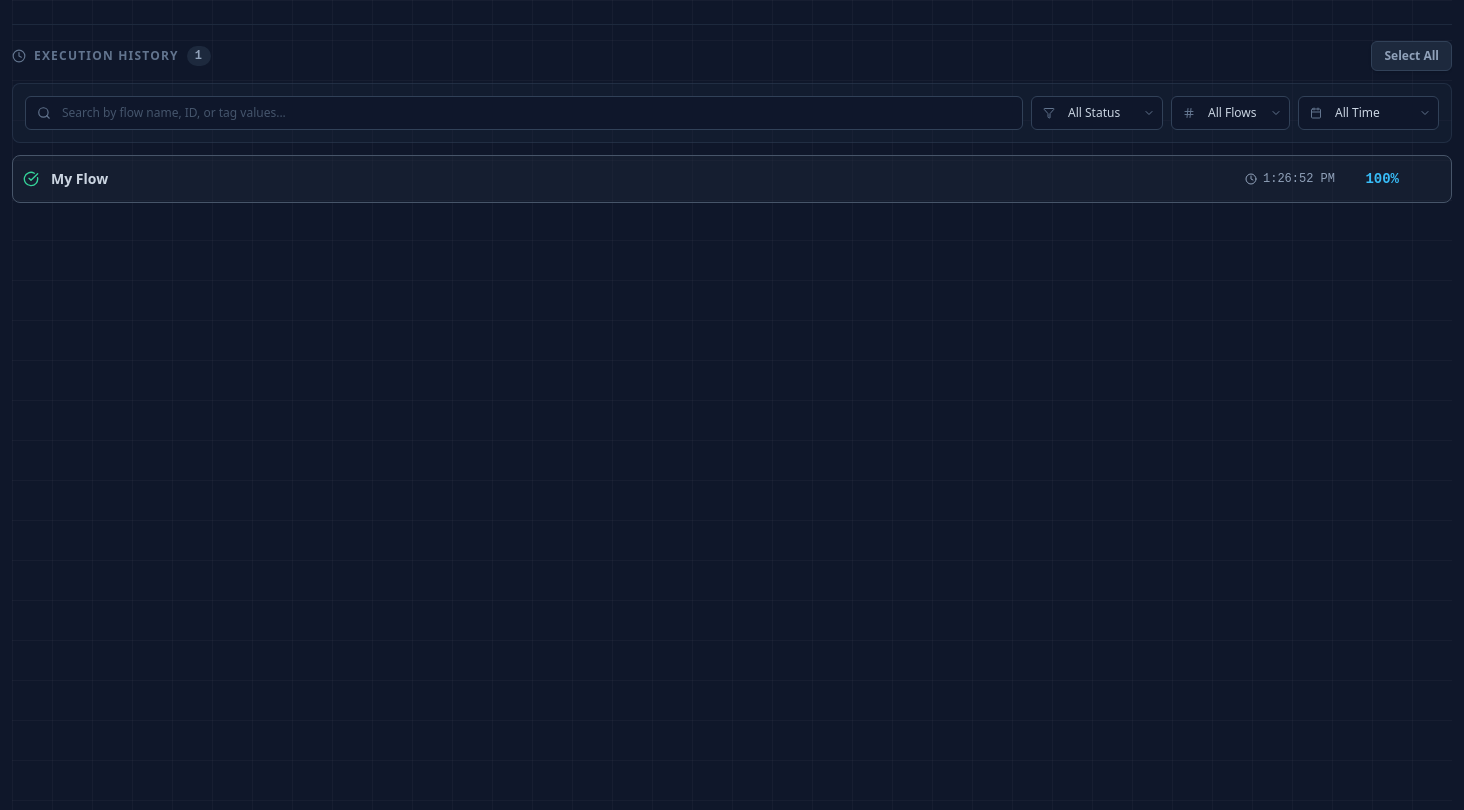
Test: HistoryPanel › clicking Select All shows Deselect All and delete button
Click the button "Select All": (1412,56) [1371,41,1452,71]
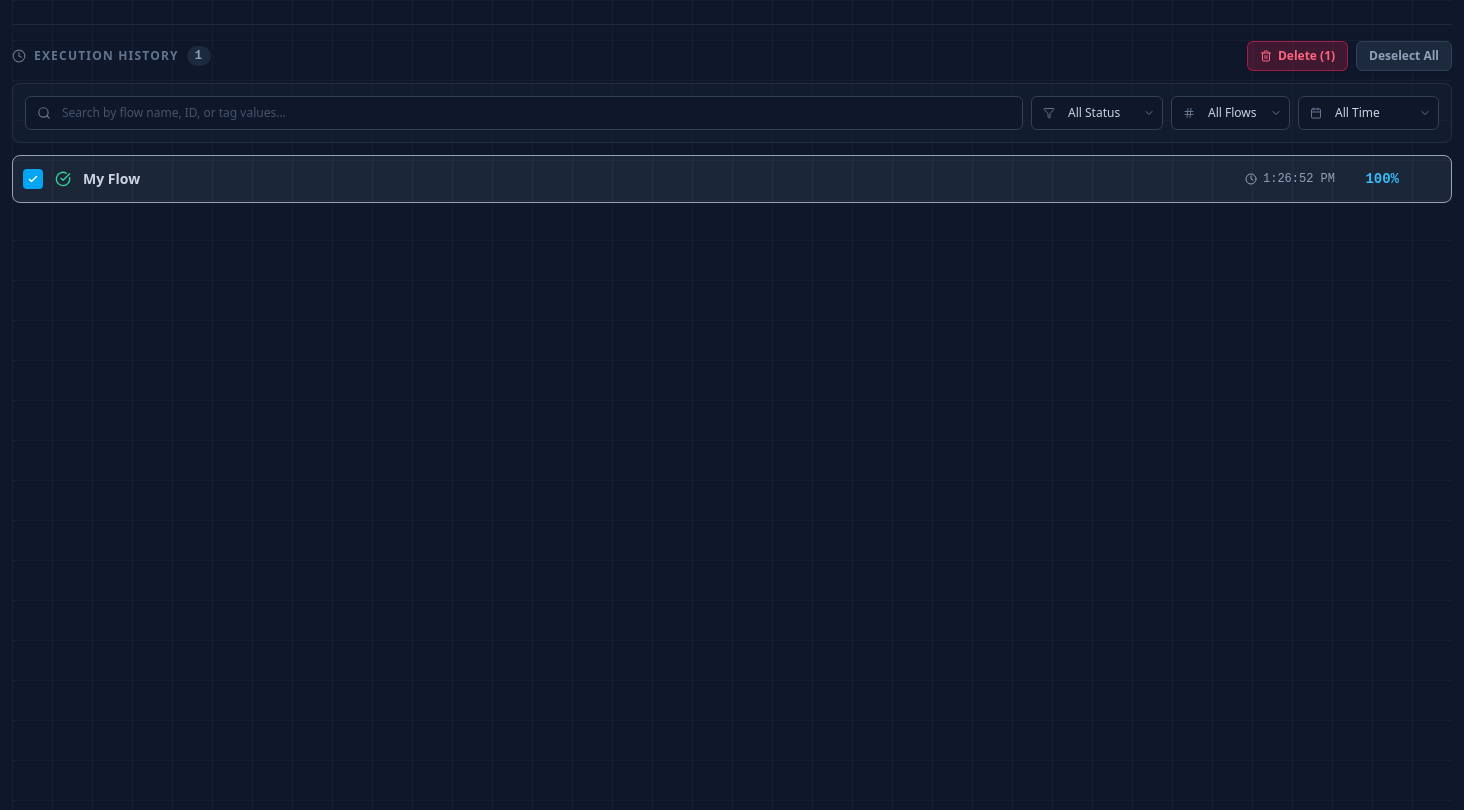
Expected: the button "Deselect All" is shown, [1356,41,1452,71]
Expected: the button "Delete (1)" is shown, [1247,41,1348,71]
